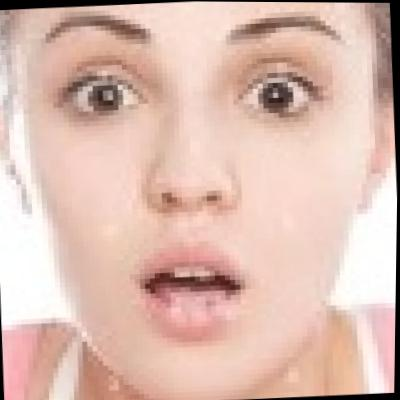surprise: (16, 0, 388, 384)
